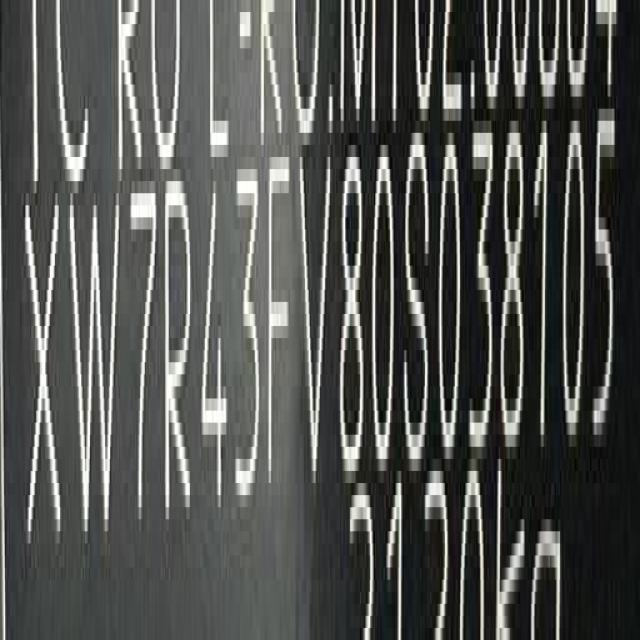0: (558, 116, 586, 456), (436, 128, 464, 461), (371, 139, 397, 479)
1: (533, 117, 552, 450)
3: (235, 163, 262, 525), (470, 116, 497, 457)
4: (202, 169, 231, 531)
5: (594, 113, 622, 451)
7: (130, 187, 160, 546)
8: (340, 143, 368, 477), (502, 119, 528, 451)
F: (266, 157, 293, 532)
R: (163, 188, 196, 540)
S: (402, 133, 434, 466)
V: (295, 134, 333, 510)
W: (70, 190, 121, 556)
X: (27, 200, 64, 560)
